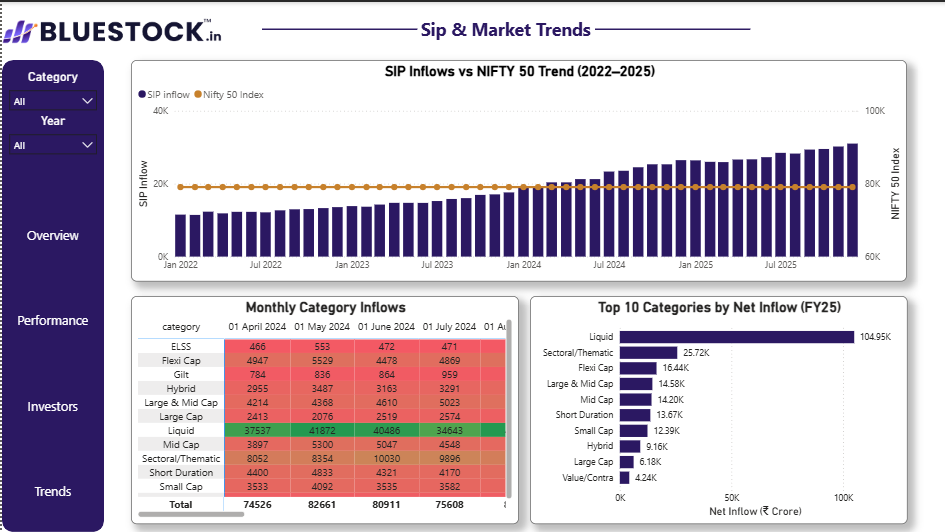

This screenshot's page, from the dashboard's own definition file:
{"tool":"powerbi","page":{"name":"Trends","canvas":[1280,720],"ordinal":3},"visuals":[{"type":"shape","box":[0,78.6,138.6,641.4],"z":0},{"type":"pageNavigator","box":[0,262.9,138.6,457.1],"z":1000},{"type":"lineClusteredColumnComboChart","title":"SIP Inflows vs NIFTY 50 Trend (2022–2025)","fields":{"Y":["Sum(monthly_sip_inflows_cleaned.sip_inflow_crore)"],"Y2":["Max(benchmark_indices_cleaned.close_value)"],"Category":["monthly_sip_inflows_cleaned.month"]},"box":[175.7,78.6,1054.3,301.4],"z":2000},{"type":"textbox","box":[564.3,14.3,241.4,42.9],"z":3000},{"type":"shape","box":[352.9,15.7,211.4,41.4],"z":4000},{"type":"shape","box":[805.7,15.7,211.4,41.4],"z":5000},{"type":"pivotTable","title":"Monthly Category Inflows","fields":{"Rows":["category_inflows_cleaned.category"],"Columns":["category_inflows_cleaned.month"],"Values":["Sum(category_inflows_cleaned.net_inflow_crore)"]},"box":[175.7,400,527.1,310],"z":6000},{"type":"clusteredBarChart","title":"Top 10 Categories by Net Inflow (FY25)","fields":{"Category":["category_inflows_cleaned.category"],"Y":["Sum(category_inflows_cleaned.net_inflow_crore)"]},"box":[717.1,400,512.9,310],"z":7000},{"type":"slicer","title":"Year","fields":{"Values":["category_inflows_cleaned.month.Variation.Date Hierarchy.Year"]},"box":[0,151.4,138.6,60],"z":8000},{"type":"slicer","title":"Category","fields":{"Values":["category_inflows_cleaned.category"]},"box":[0,91.4,138.6,60],"z":9000},{"type":"image","box":[0,0,300,78.6],"z":10000}]}

Visuals, with their boxes on the page's 1280x720 design canvas (x1, y1, x2, y2). These are canvas units, not pixel positions in the 945x532 screenshot, which may show the page scaled, cropped or inside an application window:
shape: crop(0, 79, 139, 720)
pageNavigator: crop(0, 263, 139, 720)
"SIP Inflows vs NIFTY 50 Trend (2022–2025)" lineClusteredColumnComboChart: crop(176, 79, 1230, 380)
textbox: crop(564, 14, 806, 57)
shape: crop(353, 16, 564, 57)
shape: crop(806, 16, 1017, 57)
"Monthly Category Inflows" pivotTable: crop(176, 400, 703, 710)
"Top 10 Categories by Net Inflow (FY25)" clusteredBarChart: crop(717, 400, 1230, 710)
"Year" slicer: crop(0, 151, 139, 211)
"Category" slicer: crop(0, 91, 139, 151)
image: crop(0, 0, 300, 79)
